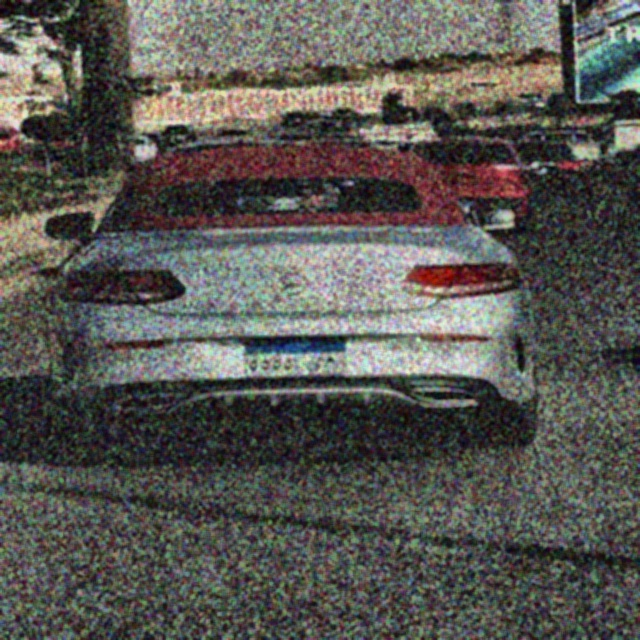License Plate: (242, 334, 348, 381)
